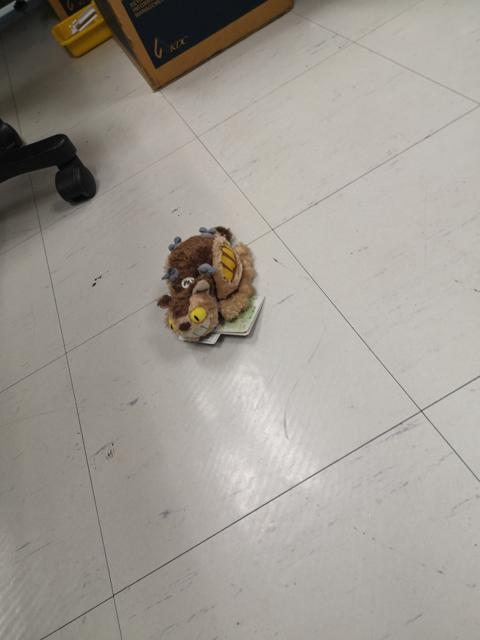nekobus: (154, 221, 261, 349)
